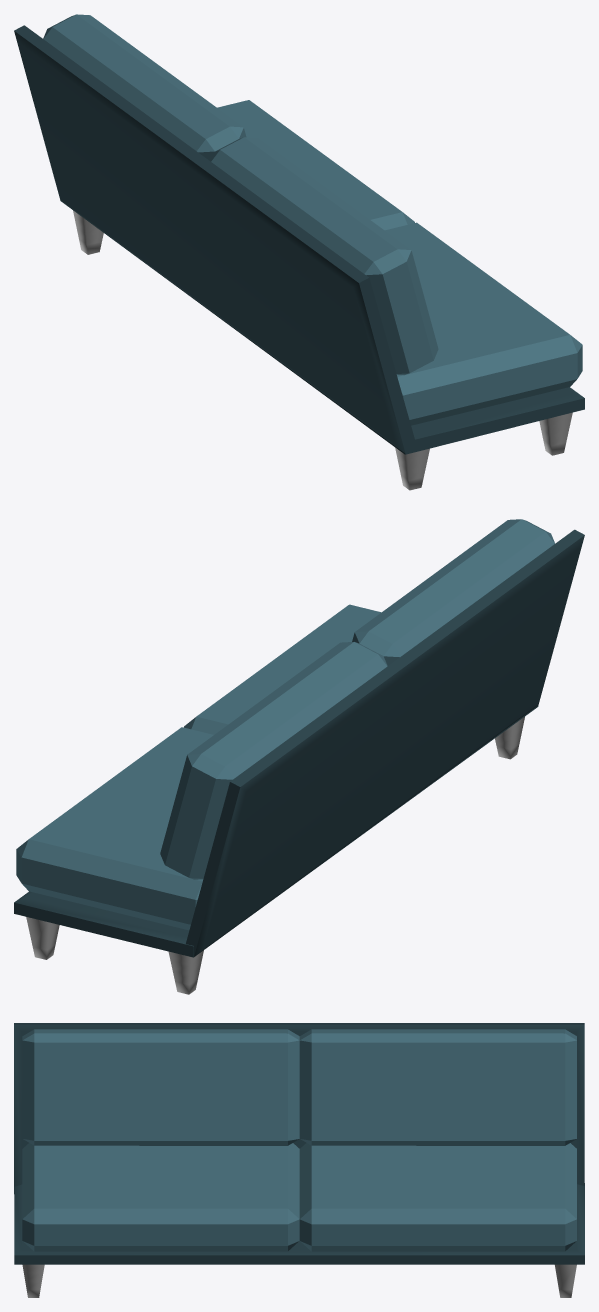
The model's file is BlueCouchV2.fbx.
The picture shows the model from 3 angles, top to bottom: view 1: azimuth 30°, elevation 25°; view 2: azimuth 150°, elevation 25°; view 3: azimuth 270°, elevation 25°; orthographic projection. The views are drawn at different scales.
Parts seen in each view (by area): view 1: pasted__pCube11; view 2: pasted__pCube11; view 3: pasted__pCube11.
Part boxes in pixels (bbox=[...]): pasted__pCube11: bbox=[14, 14, 584, 490]; pasted__pCube11: bbox=[14, 519, 584, 994]; pasted__pCube11: bbox=[14, 1023, 584, 1297].
Size of the model in its own units: 1.43 by 1.38 by 3.6.
